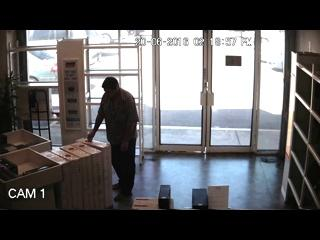Normal: (86, 77, 140, 202)
